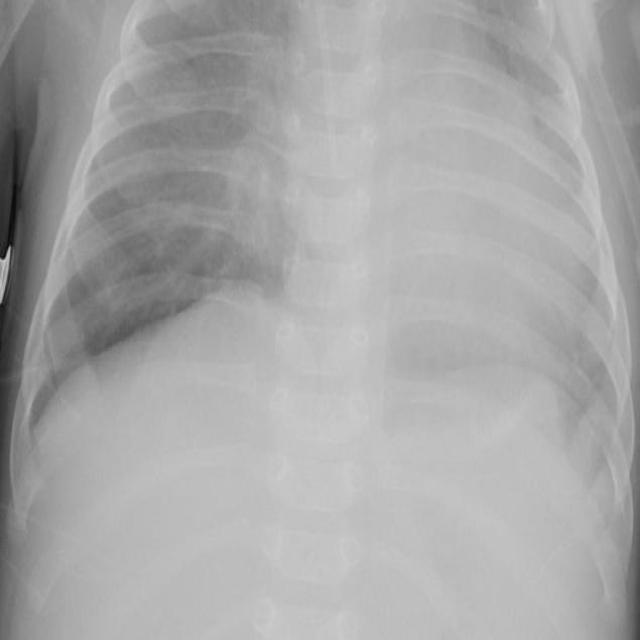high-pneumonia: (484, 14, 628, 494), (134, 42, 288, 276)
